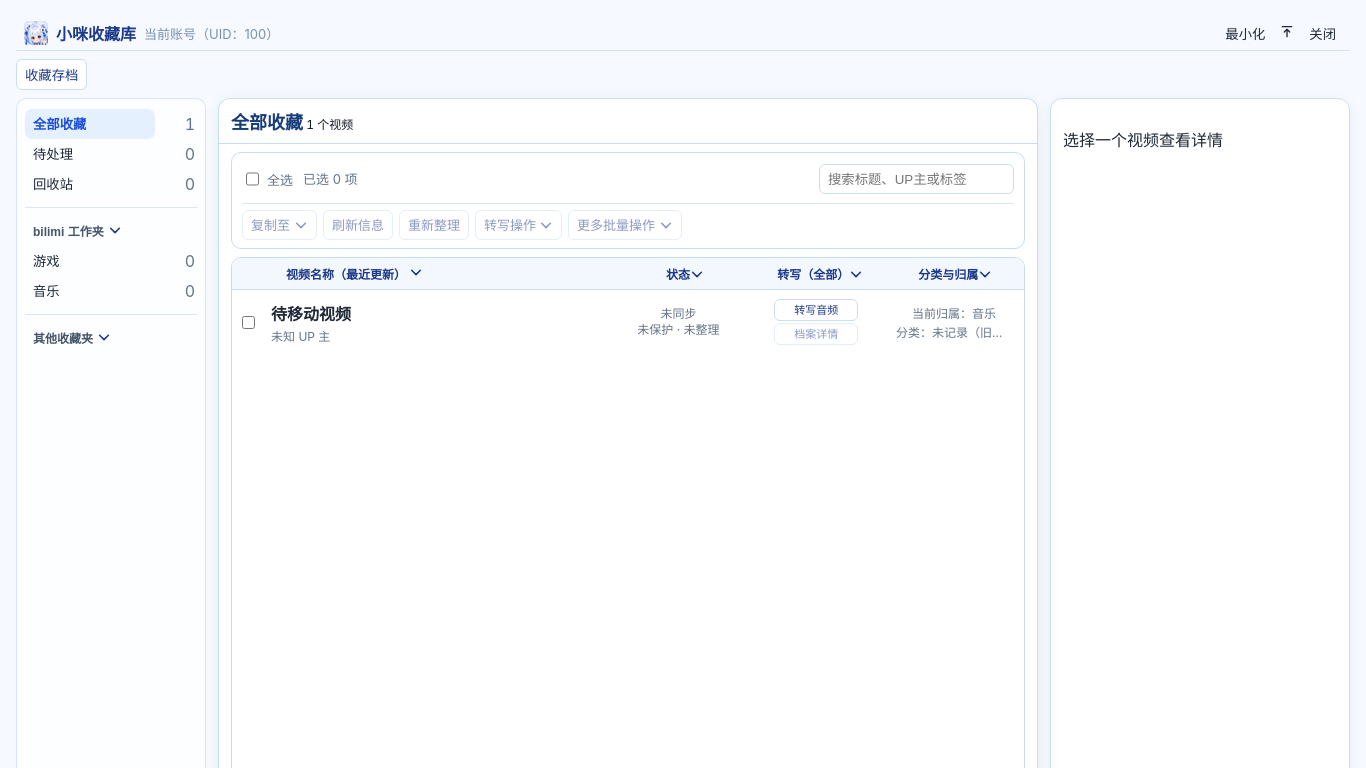
Test: FavoriteLibraryApp › does not submit a selected move after the authoritative refresh removes that row
The image size is (1366, 768).
What coordinates should you click on to do the following:
click the button "音乐"
I would click on:
 (90, 291)
Its box is [25,276,155,306].
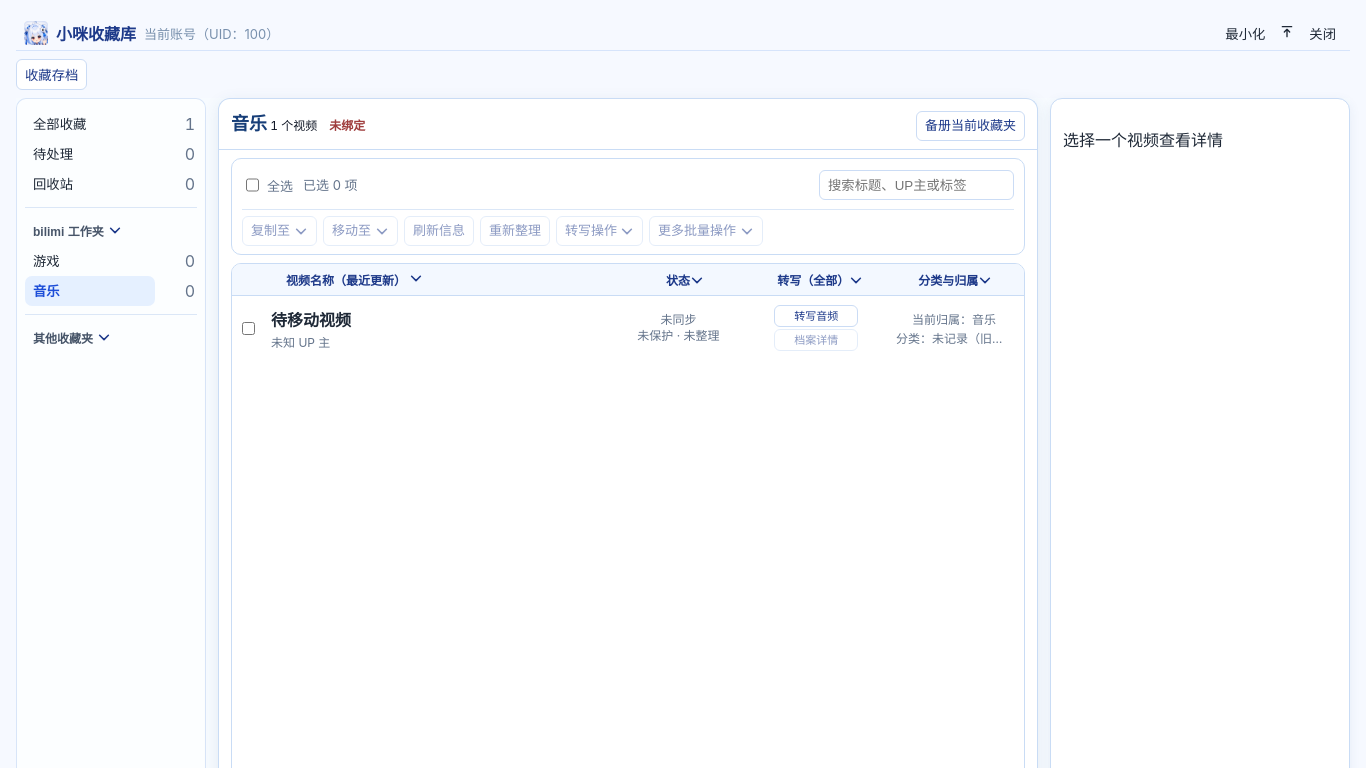
What coordinates should you click on to do the following:
click the checkbox named "选择 待移动视频"
I would click on:
 (248, 328)
Its box is [242,322,255,334].
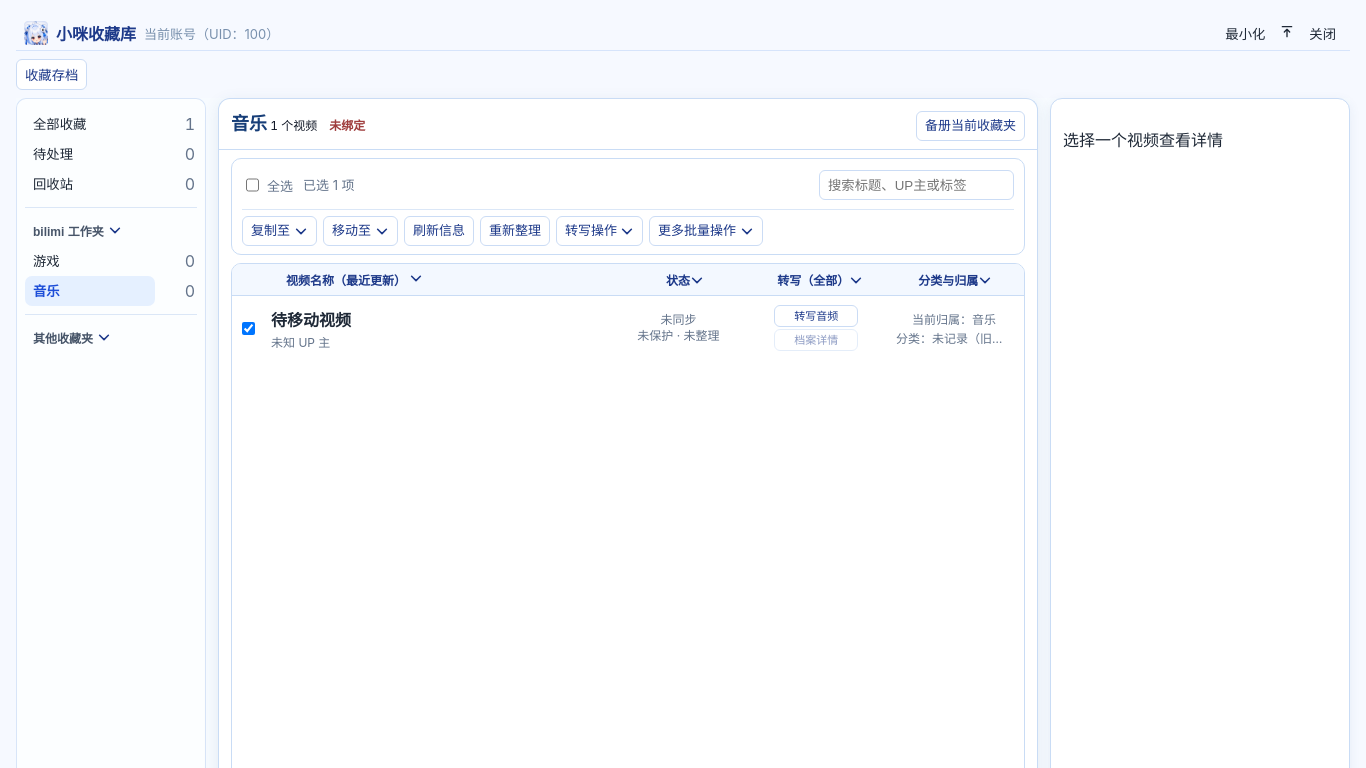
What coordinates should you click on to do the following:
click the button "移动至"
I would click on:
 (360, 231)
Its box is [323,216,398,246].
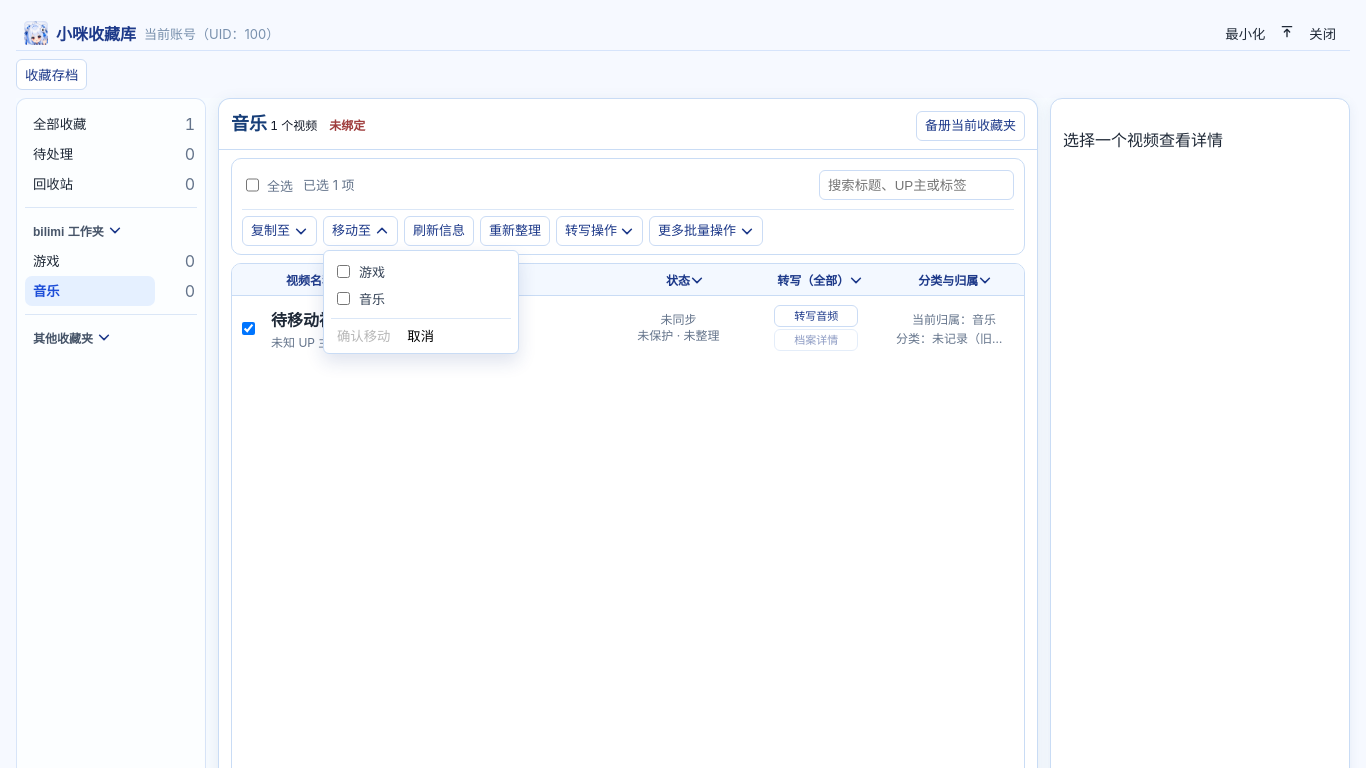
What coordinates should you click on to do the following:
click the menu item "游戏"
I would click on:
 (361, 272)
Its box is [337,265,385,280].
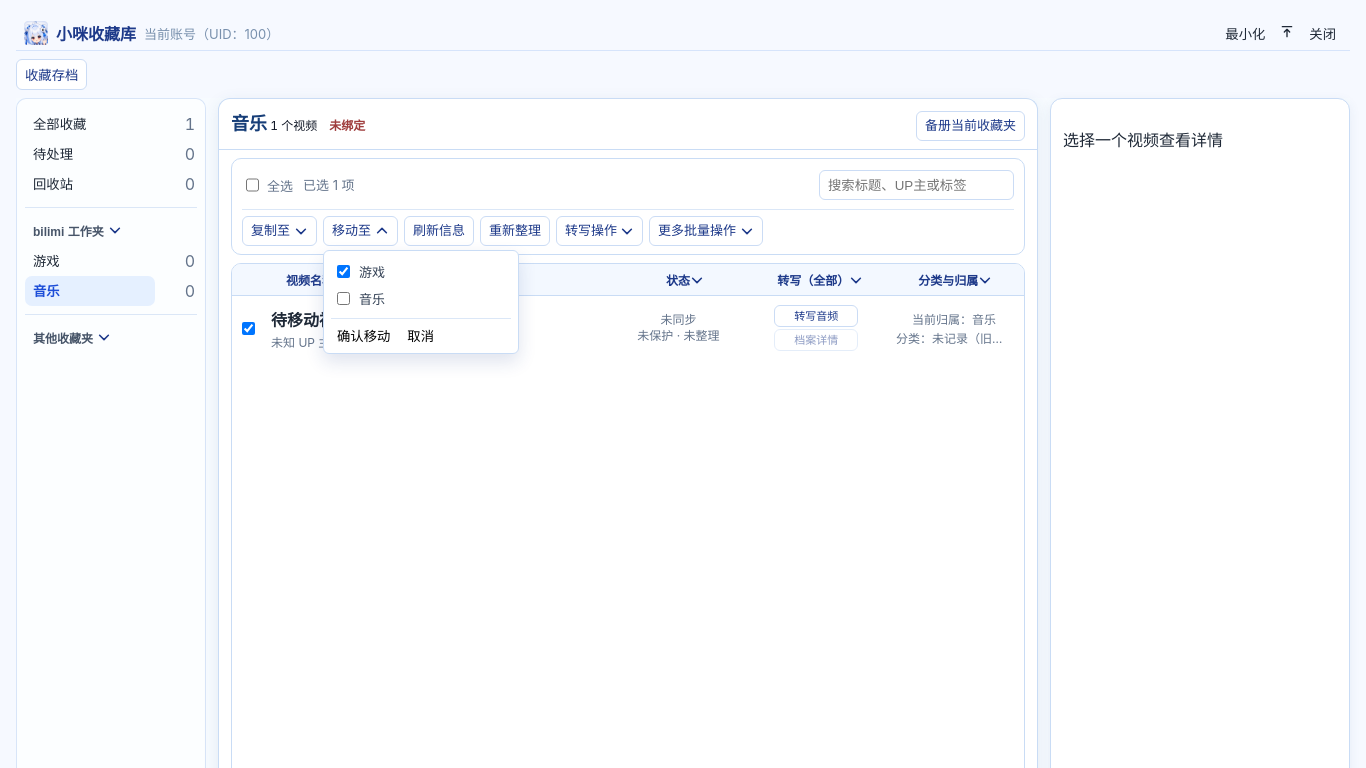
What coordinates should you click on to do the following:
click the button "确认移动"
I would click on:
 (364, 336)
Its box is [331,325,396,346].
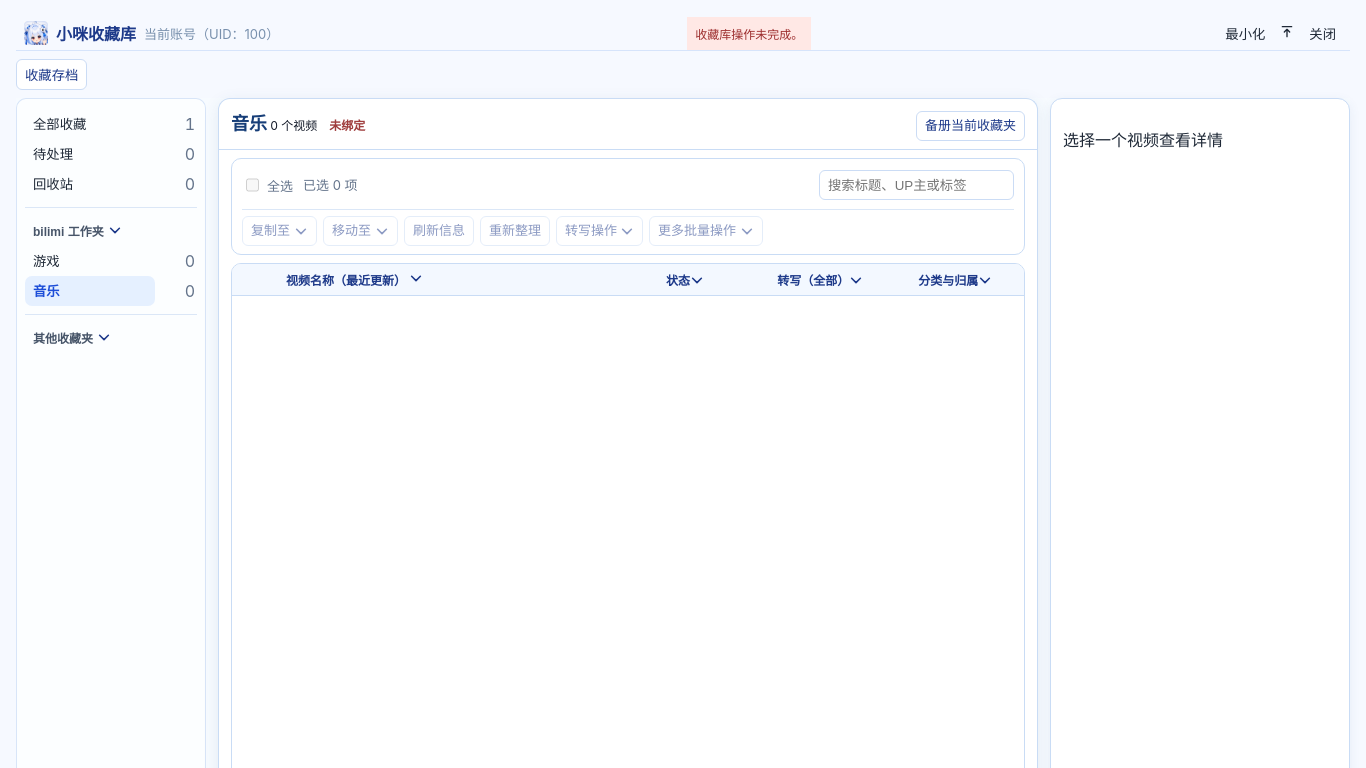
Expected: the checkbox labelled "选择 待移动视频" is gone
